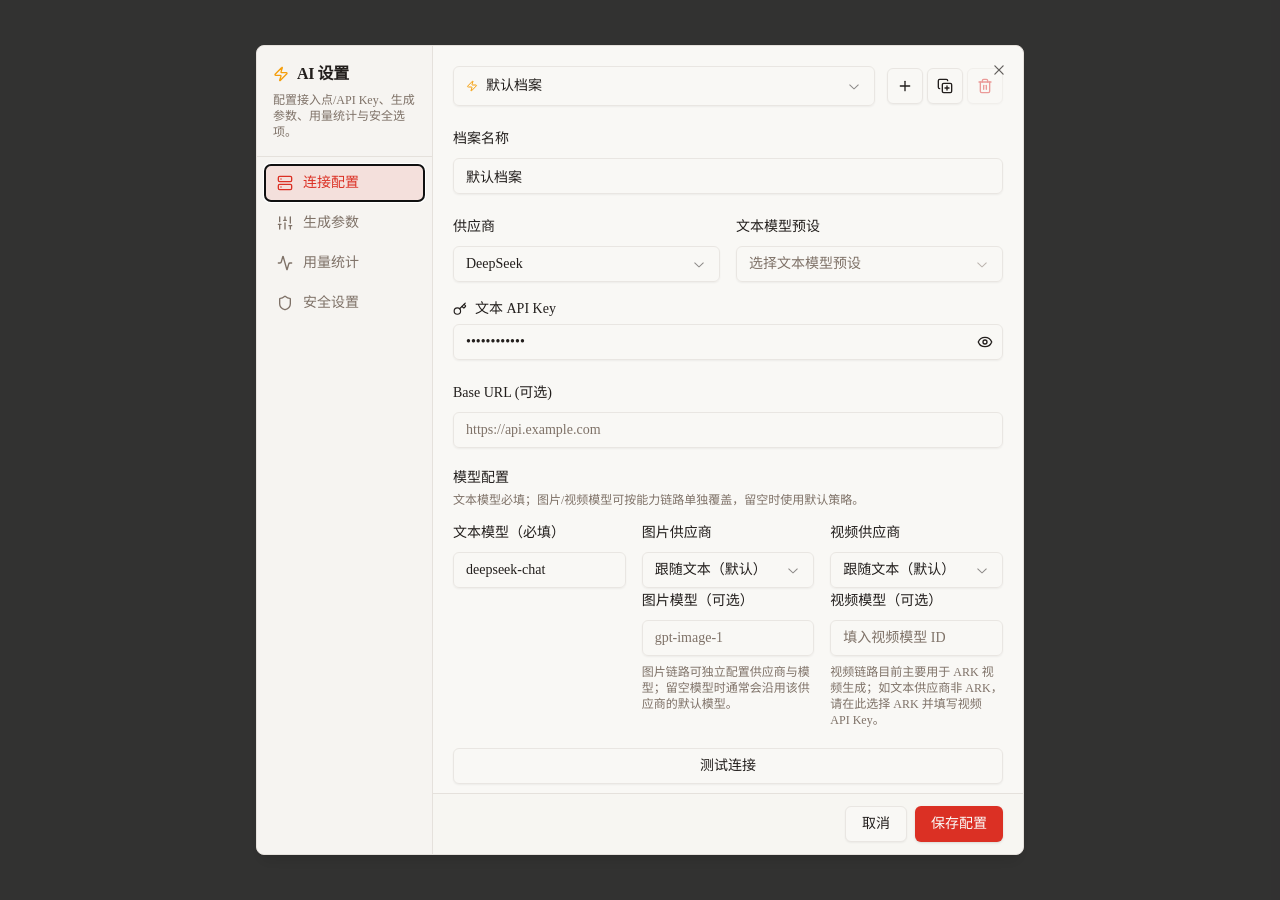
Test: ConfigDialog 加密密码设置 › 密码不匹配时应显示错误
Click the button "安全设置": coordinates (344, 303) [265, 285, 424, 321]
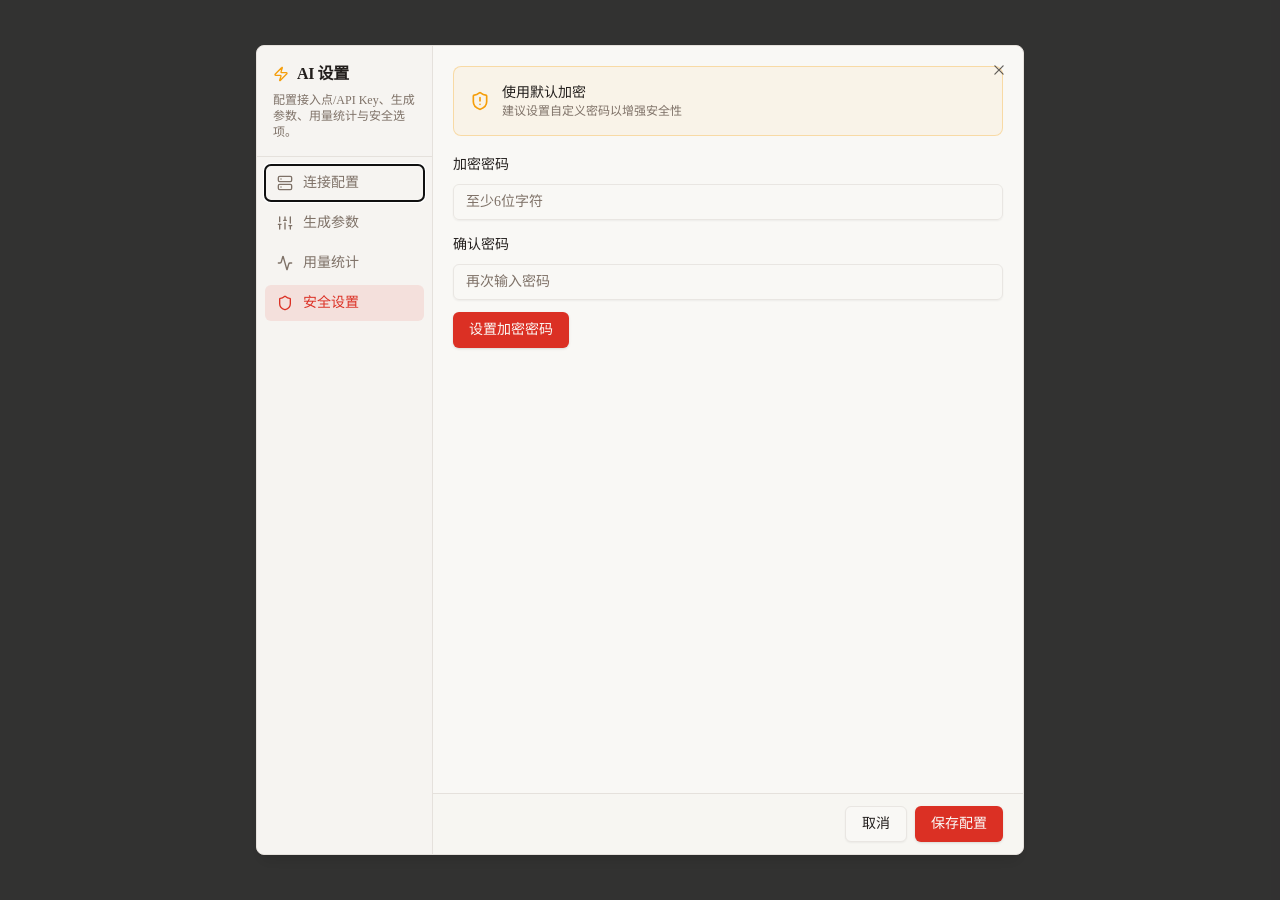
In the password field labelled "加密密码": coordinates (728, 202) [453, 184, 1003, 220], type "password1"
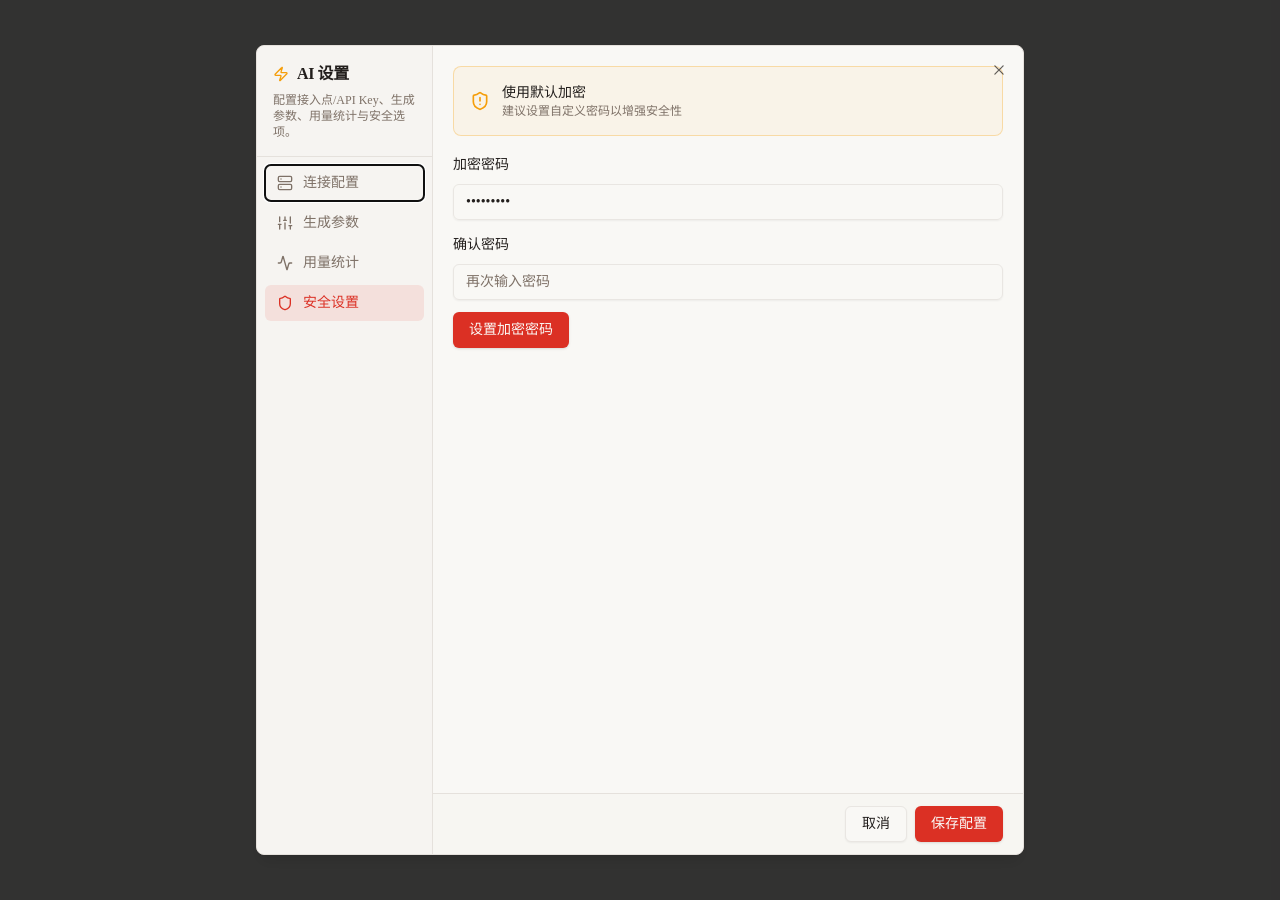
In the password field labelled "确认密码": coordinates (728, 282) [453, 264, 1003, 300], type "password2"
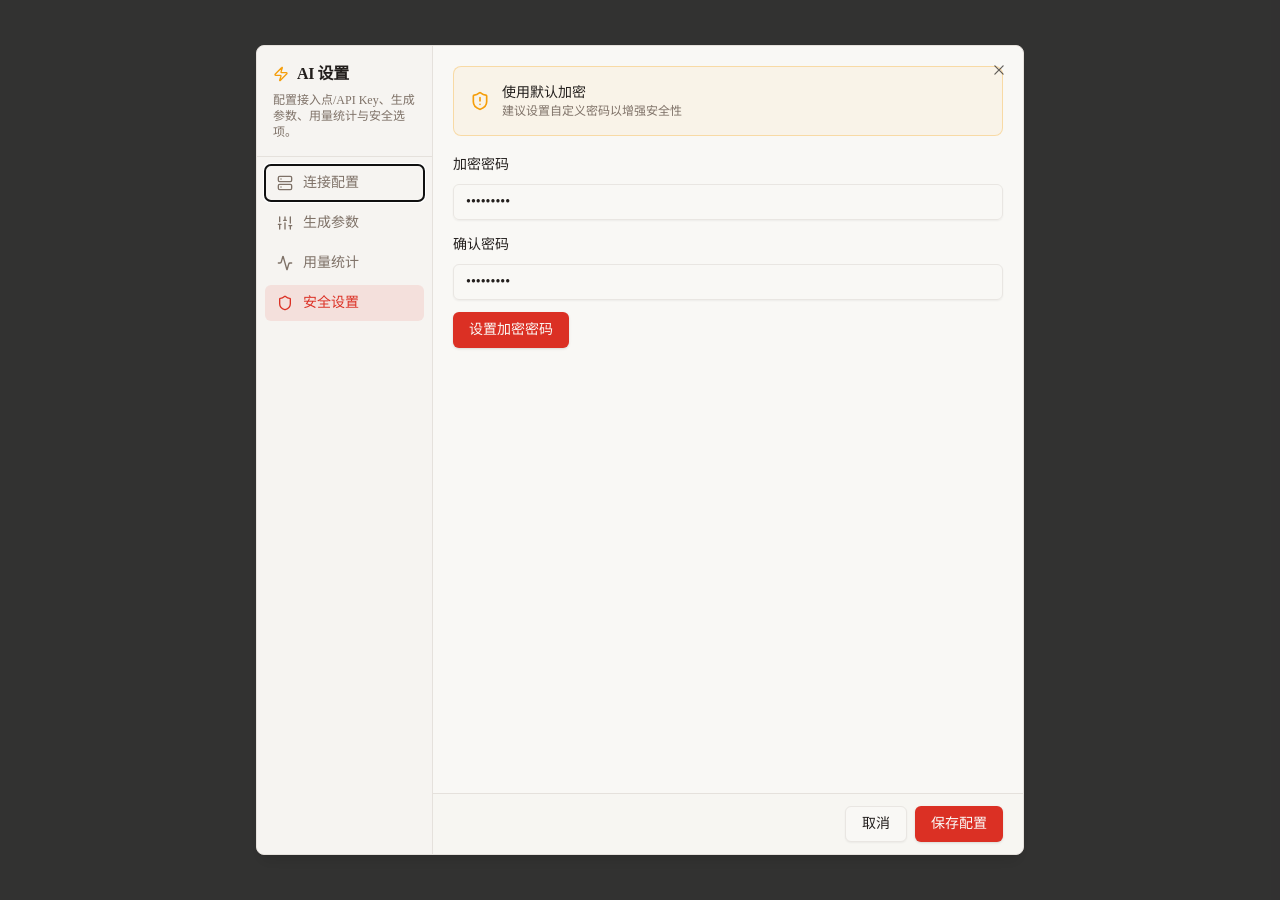
Click the button "设置加密密码": coordinates (511, 330) [453, 312, 569, 348]
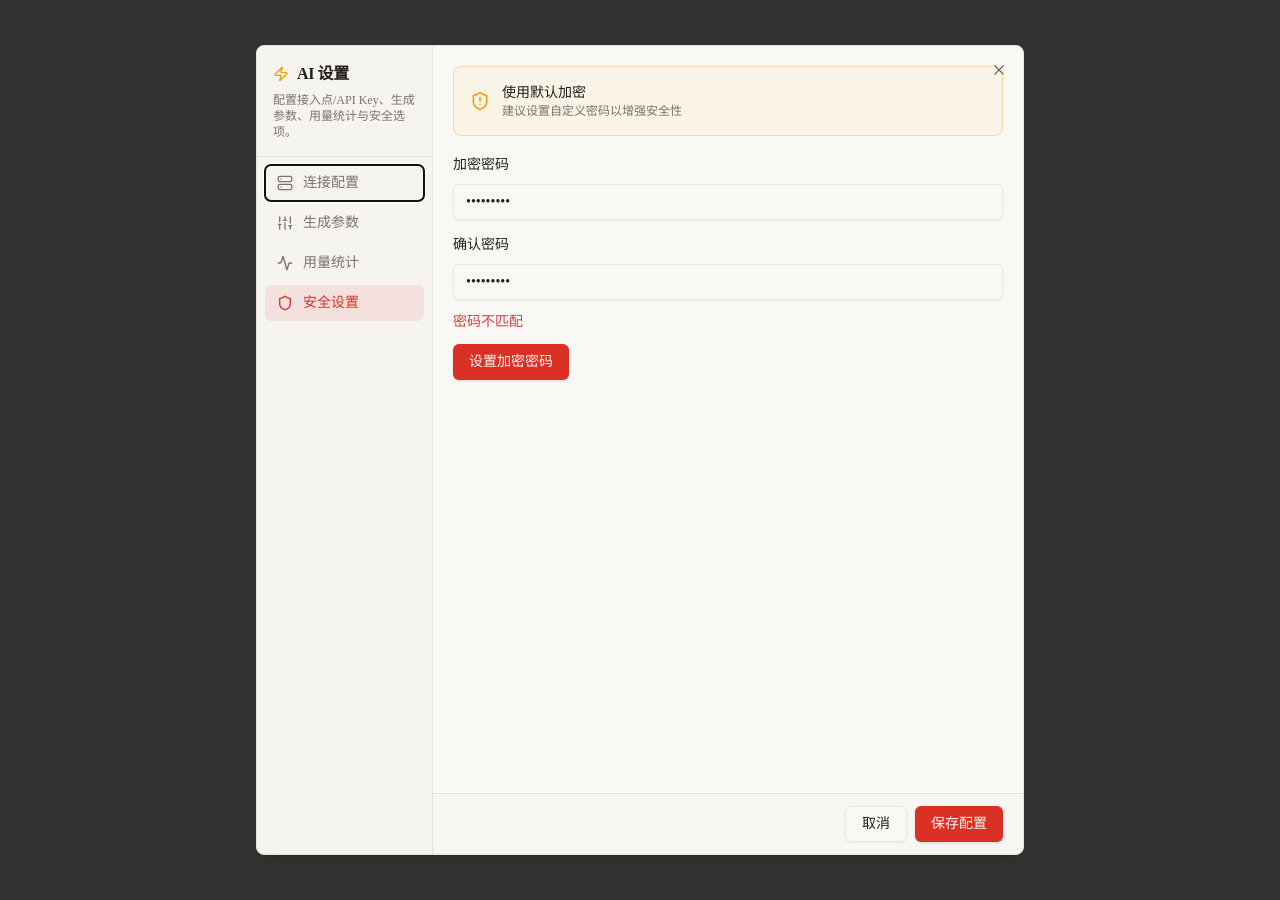
Expected: the text "密码不匹配" is shown, [453, 314, 523, 329]
